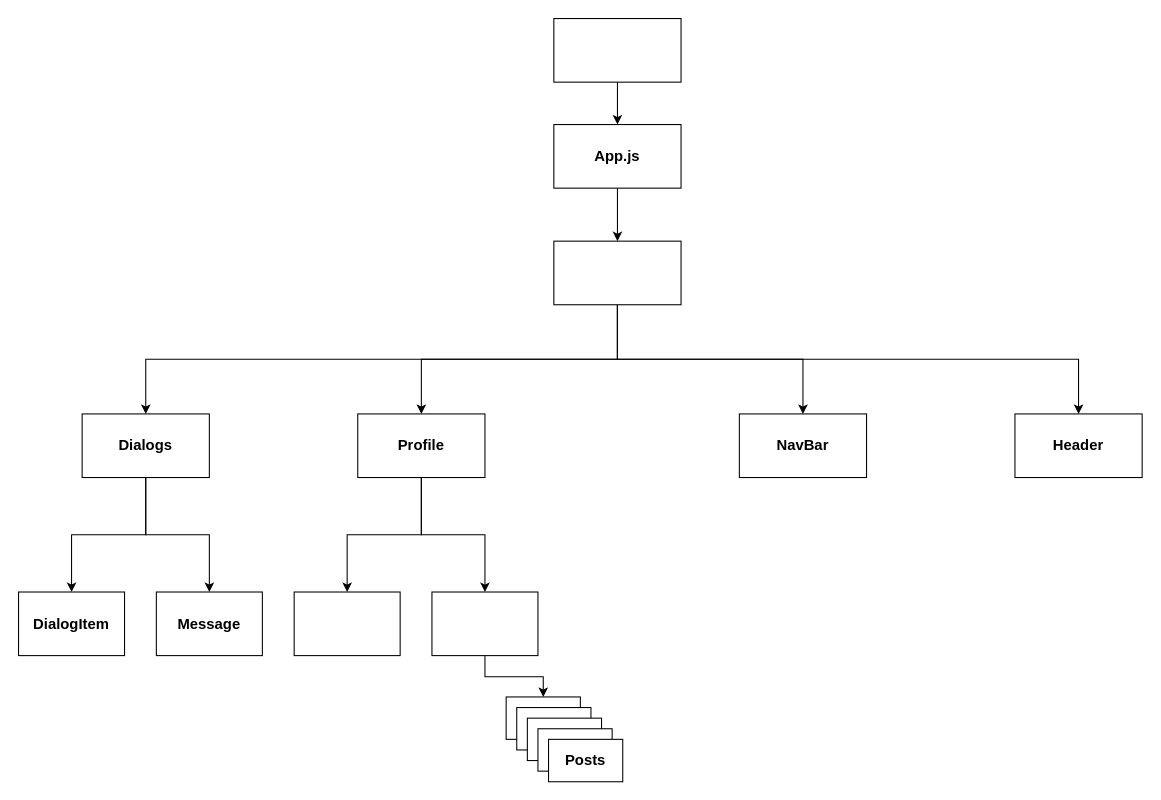
The diagram is 1161 pixels wide and 800 high, and some of its shapes have lost their labels. The shapes that lost their labels are listed below. From the top down, each one's centre as x and y in pixels, then its label:
pixel 617 49: index.js
pixel 617 272: BrowserRouter
pixel 346 623: ProfileInfo
pixel 484 623: MyPosts
